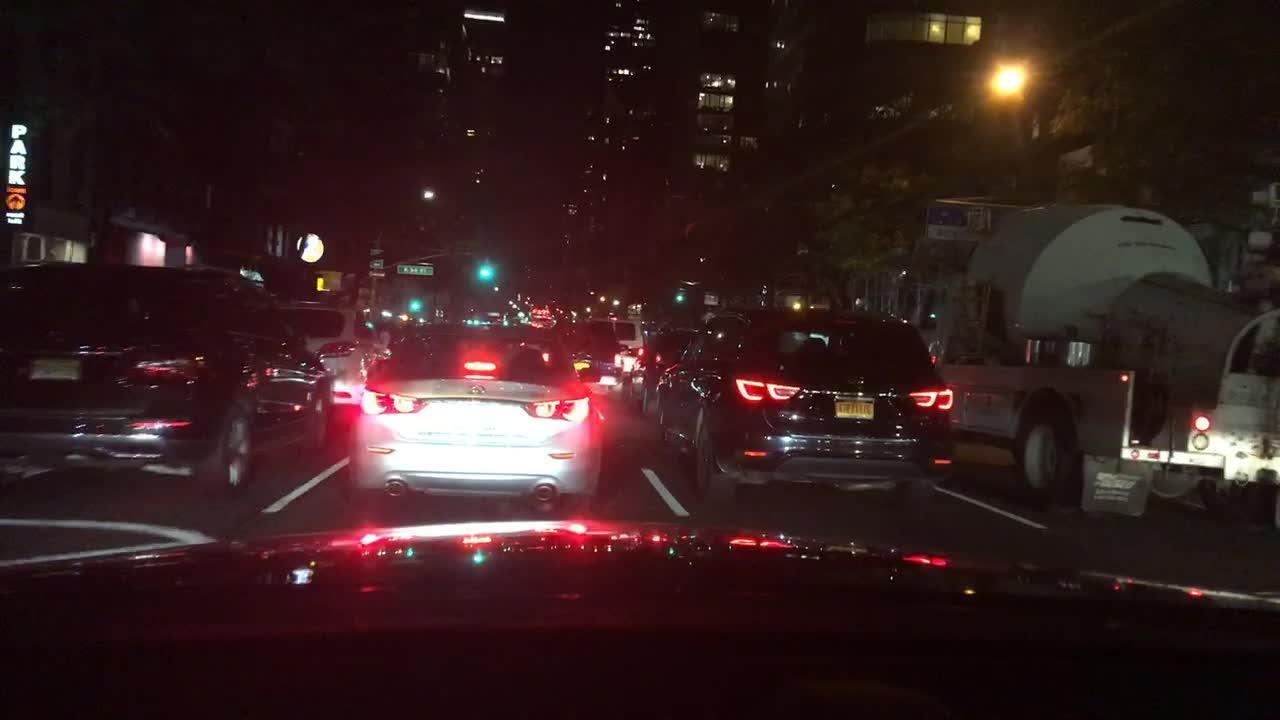Infiniti: (458, 377, 495, 400)
